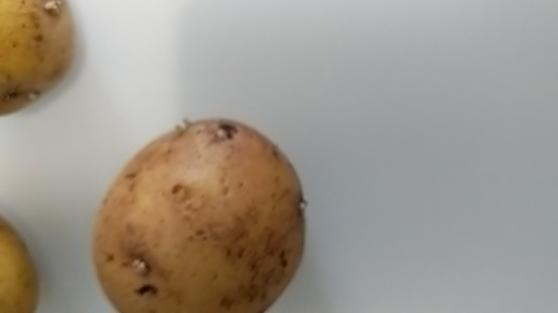potato: (95, 117, 304, 313), (1, 1, 78, 113)
